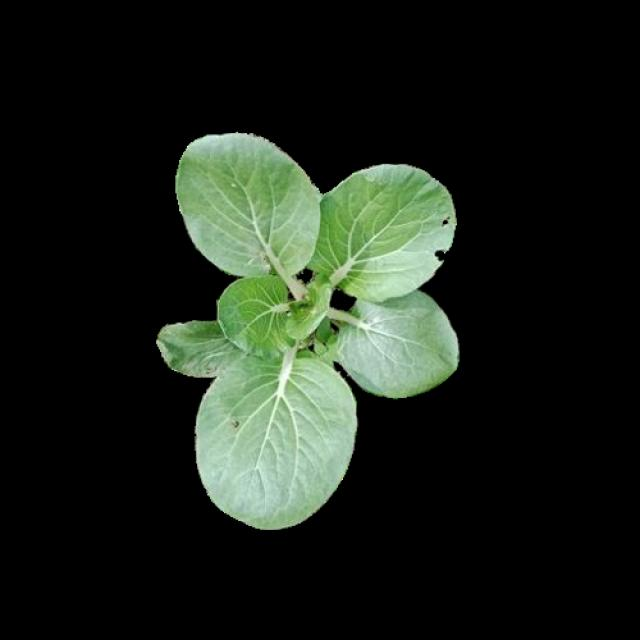not-mature: (159, 132, 463, 530)
unhealthy: (316, 165, 462, 303), (158, 316, 245, 379)
